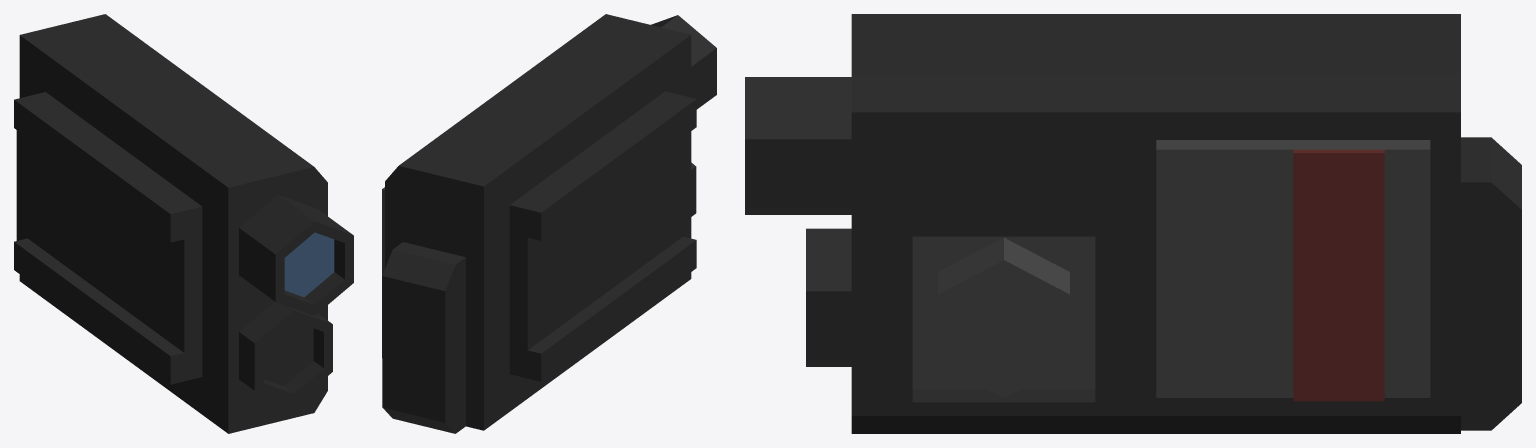
File: Laser_A.fbx
3 views of the same model, side by side, from view 1: azimuth 30°, elevation 25°; view 2: azimuth 150°, elevation 25°; view 3: azimuth 270°, elevation 25° (orthographic). The views are drawn at different scales.
Parts seen in each view (by area): view 1: Laser_A; view 2: Laser_A; view 3: Laser_A.
Part boxes in pixels (bbox=[...]): Laser_A: bbox=[14, 14, 353, 433]; Laser_A: bbox=[382, 14, 716, 433]; Laser_A: bbox=[745, 14, 1521, 433].
Size of the model in its own units: 0.165 by 0.26 by 0.51.
